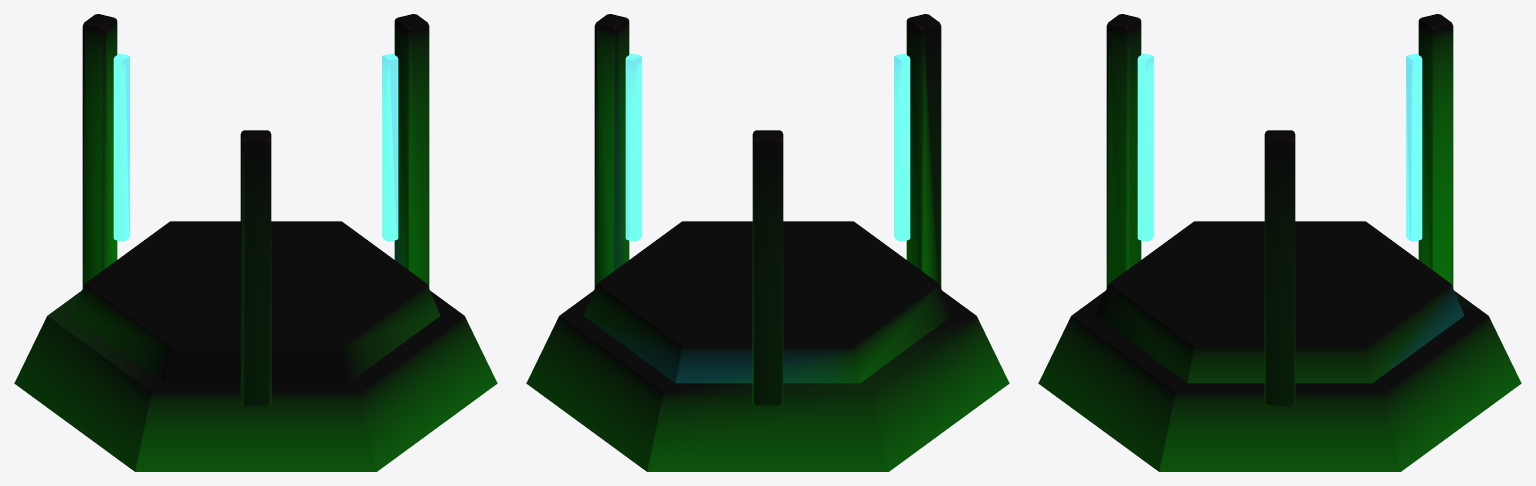
The model's file is hero_puzzle_acoustic_vault.glb.
3 views of the same model, side by side, from view 1: azimuth 30°, elevation 25°; view 2: azimuth 150°, elevation 25°; view 3: azimuth 270°, elevation 25° (orthographic).
Visible parts, largest first — view 1: HeroPuzzleAcousticVault; view 2: HeroPuzzleAcousticVault; view 3: HeroPuzzleAcousticVault.
Boxes of the visible parts, left/top/right/bottom form: HeroPuzzleAcousticVault: left=14, top=14, right=497, bottom=471; HeroPuzzleAcousticVault: left=526, top=14, right=1009, bottom=471; HeroPuzzleAcousticVault: left=1038, top=14, right=1521, bottom=471.
Bounding box in the file's own units: 1.91 × 1.64 × 2.2.
